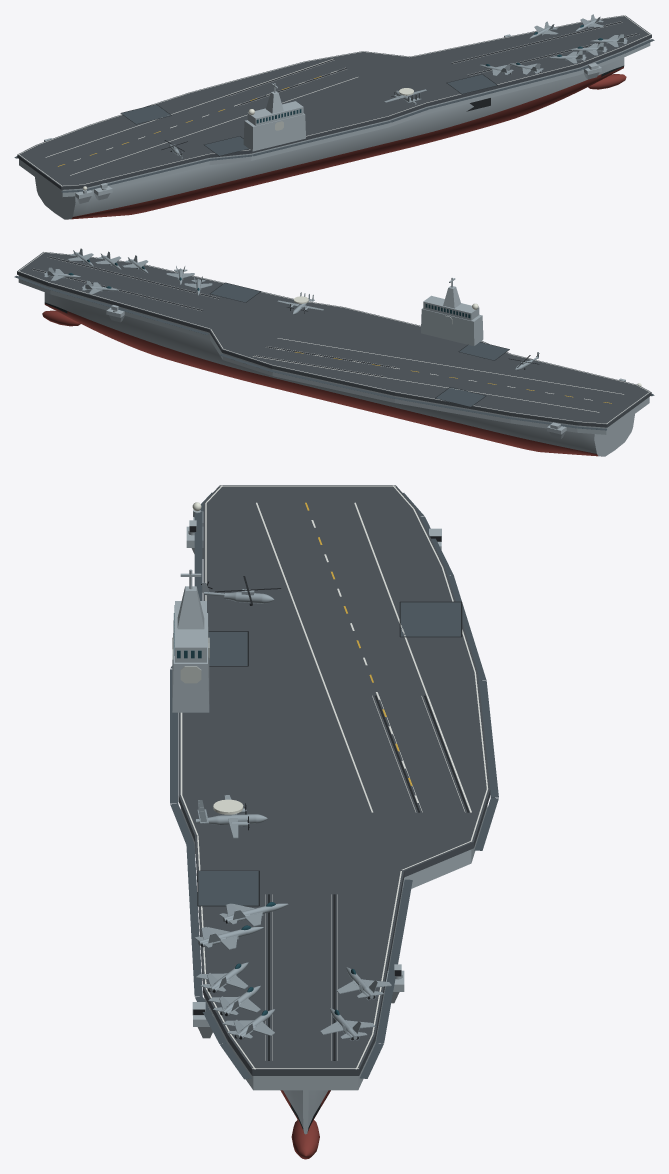
Rendered from usn_cvn_ford.glb.
The picture shows the model from 3 angles, top to bottom: view 1: azimuth 30°, elevation 25°; view 2: azimuth 150°, elevation 25°; view 3: azimuth 270°, elevation 25°; orthographic projection. The views are drawn at different scales.
Visible parts, largest first — view 1: flight_deck, naval_paint, antifouling, deck_non_skid, marking_white, airframe, rubber; view 2: flight_deck, naval_paint, antifouling, deck_non_skid, marking_white, airframe, rubber; view 3: flight_deck, deck_non_skid, naval_paint, airframe, marking_white, rubber, antifouling.
Part boxes in pixels (x1=…): flight_deck: x1=17, y1=15, x2=651, y2=189; naval_paint: x1=19, y1=34, x2=650, y2=219; antifouling: x1=71, y1=67, x2=626, y2=219; deck_non_skid: x1=14, y1=39, x2=654, y2=192; marking_white: x1=18, y1=15, x2=650, y2=186; airframe: x1=169, y1=14, x2=627, y2=158; rubber: x1=120, y1=21, x2=638, y2=156; flight_deck: x1=17, y1=252, x2=651, y2=427; naval_paint: x1=18, y1=260, x2=649, y2=456; antifouling: x1=42, y1=303, x2=597, y2=456; deck_non_skid: x1=14, y1=275, x2=654, y2=430; marking_white: x1=18, y1=252, x2=650, y2=423; airframe: x1=44, y1=248, x2=538, y2=370; rubber: x1=32, y1=257, x2=539, y2=406; flight_deck: x1=178, y1=485, x2=490, y2=1075; deck_non_skid: x1=170, y1=492, x2=498, y2=1079; naval_paint: x1=172, y1=509, x2=487, y2=1134; airframe: x1=194, y1=582, x2=391, y2=1040; marking_white: x1=180, y1=485, x2=488, y2=1069; rubber: x1=189, y1=526, x2=469, y2=1060; antifouling: x1=280, y1=1090, x2=330, y2=1159.
Size of the model in its own units: 10 by 1.84 by 2.37.
